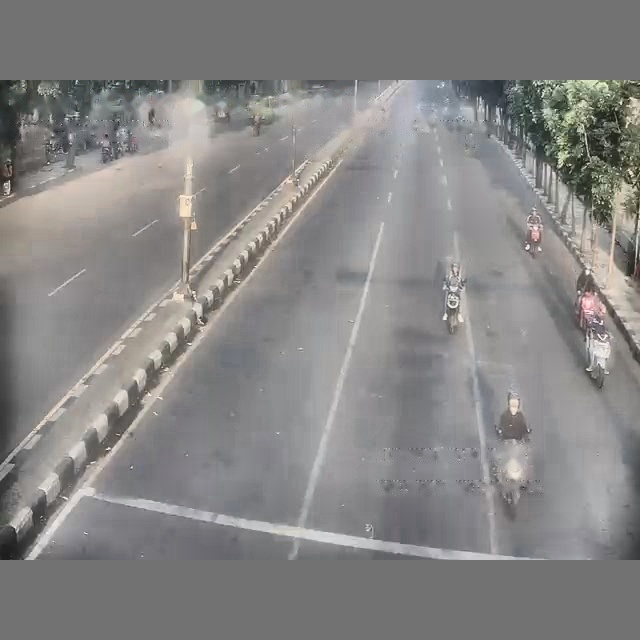Motor: (445, 284, 460, 334), (525, 223, 541, 257)
